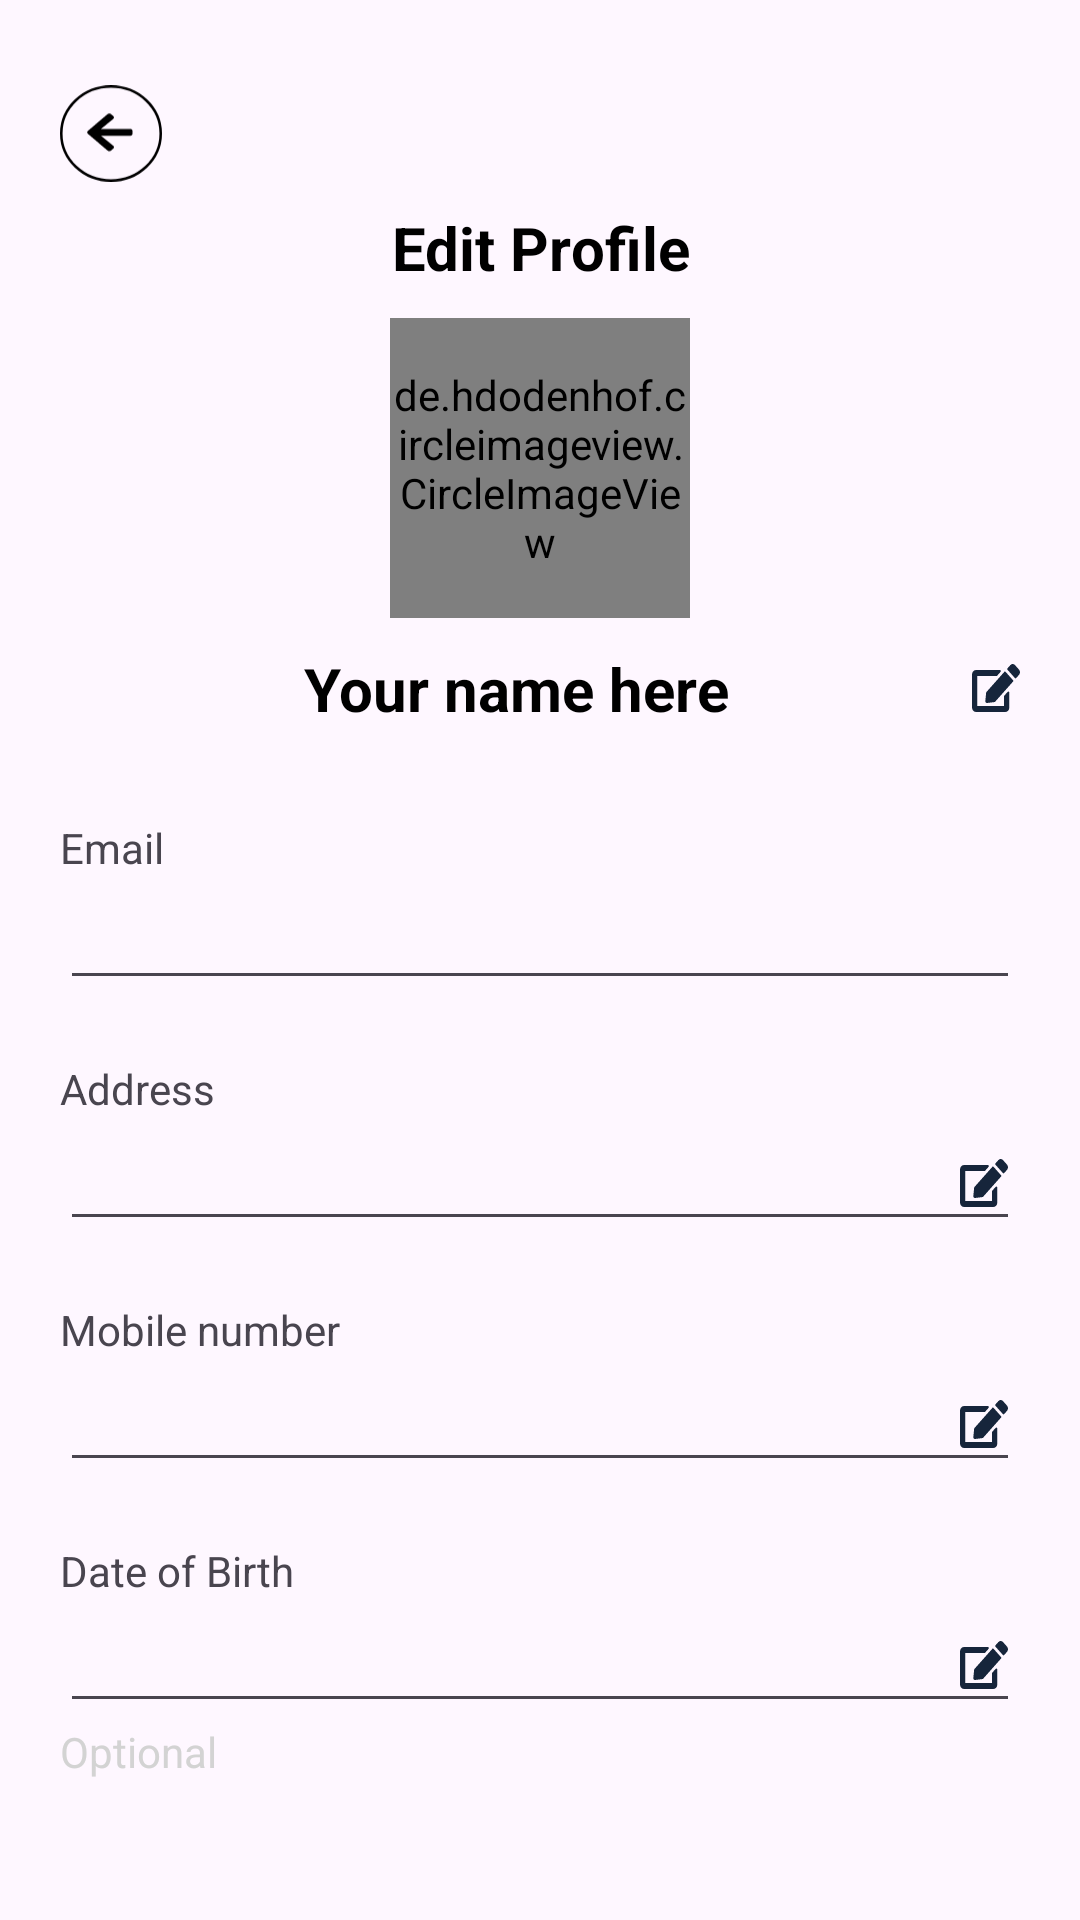

Icon click points for this 1080*1920 phone screenshot, format (x,y):
back arrow: (111,133)
